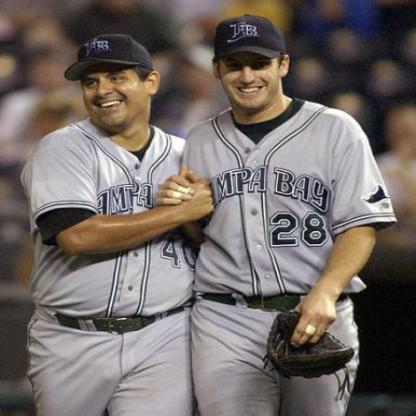face: (79, 37, 150, 130), (220, 23, 284, 111)
